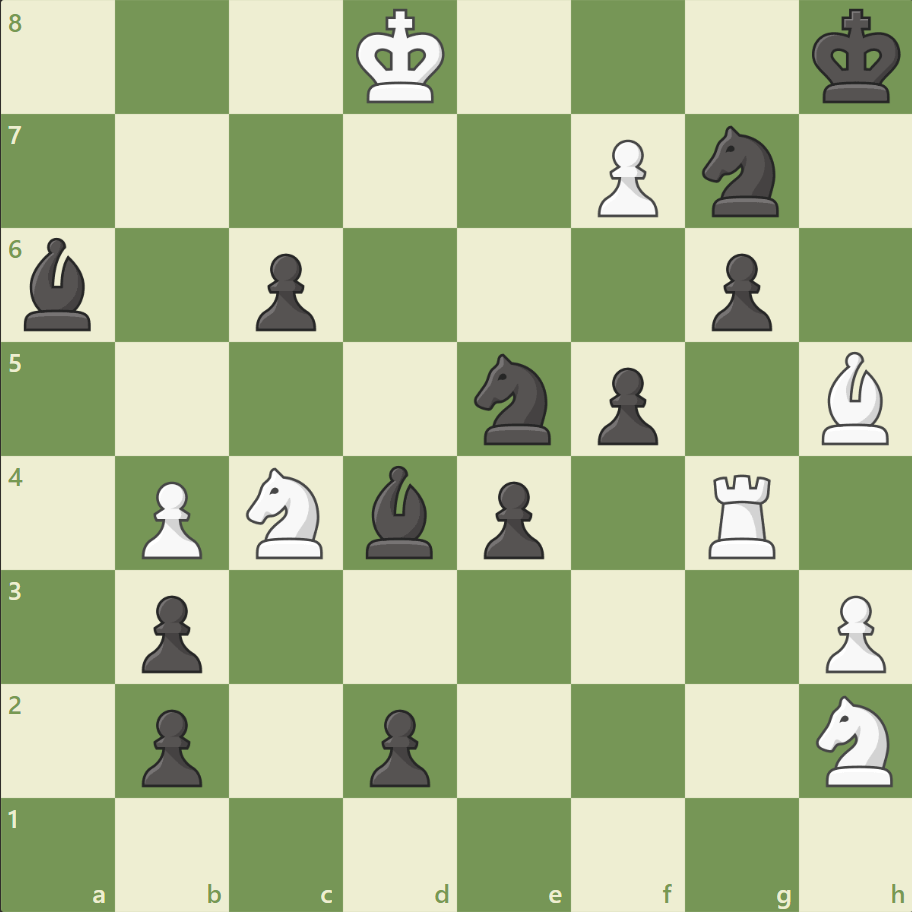B: (812, 347, 896, 449)
K: (351, 4, 451, 112)
N: (238, 461, 335, 564), (806, 688, 903, 791)
P: (133, 473, 208, 564), (588, 132, 662, 223), (815, 586, 889, 677)
R: (700, 466, 783, 563)
b: (17, 233, 101, 336), (358, 460, 442, 563)
k: (806, 4, 906, 112)
n: (692, 121, 789, 223), (465, 348, 562, 450)
p: (247, 246, 322, 337), (701, 246, 776, 337), (474, 473, 549, 564), (133, 586, 208, 677), (133, 700, 208, 791), (588, 359, 662, 450), (361, 700, 435, 791)
